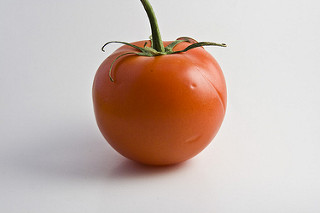tomato: (91, 1, 227, 176)
